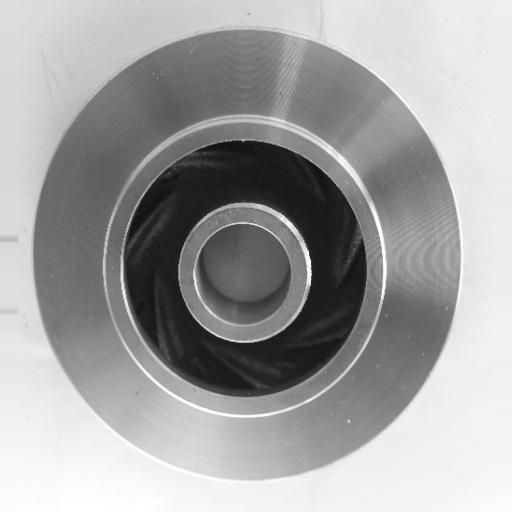polished_casting: (30, 25, 464, 487)
